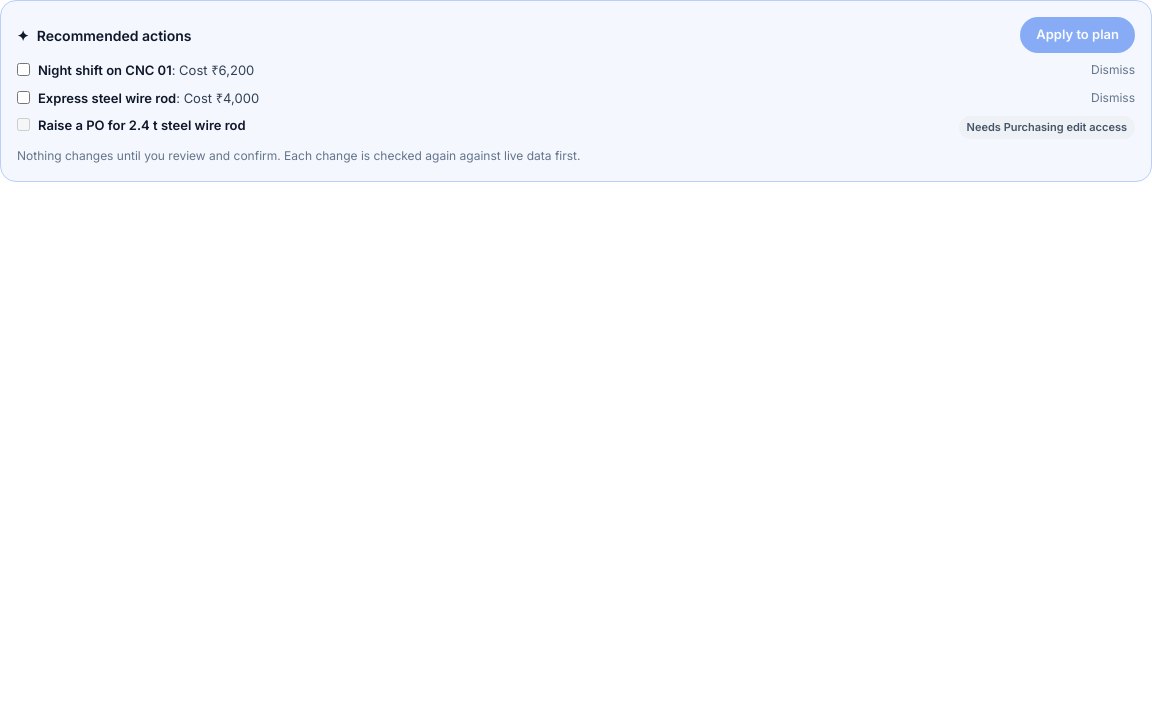
tick, review (re-checked live: now vs after), confirm: applied with a link; nothing without approval
Check: the button "Apply to plan" is disabled, box [1020,17,1135,53]
Check: the text "Needs Purchasing edit access" is shown, box [959,116,1135,138]
Click the checkbox labelled "Night shift on CNC 01: Cost ₹6,200".
click(24, 70)  # box [17,63,30,76]
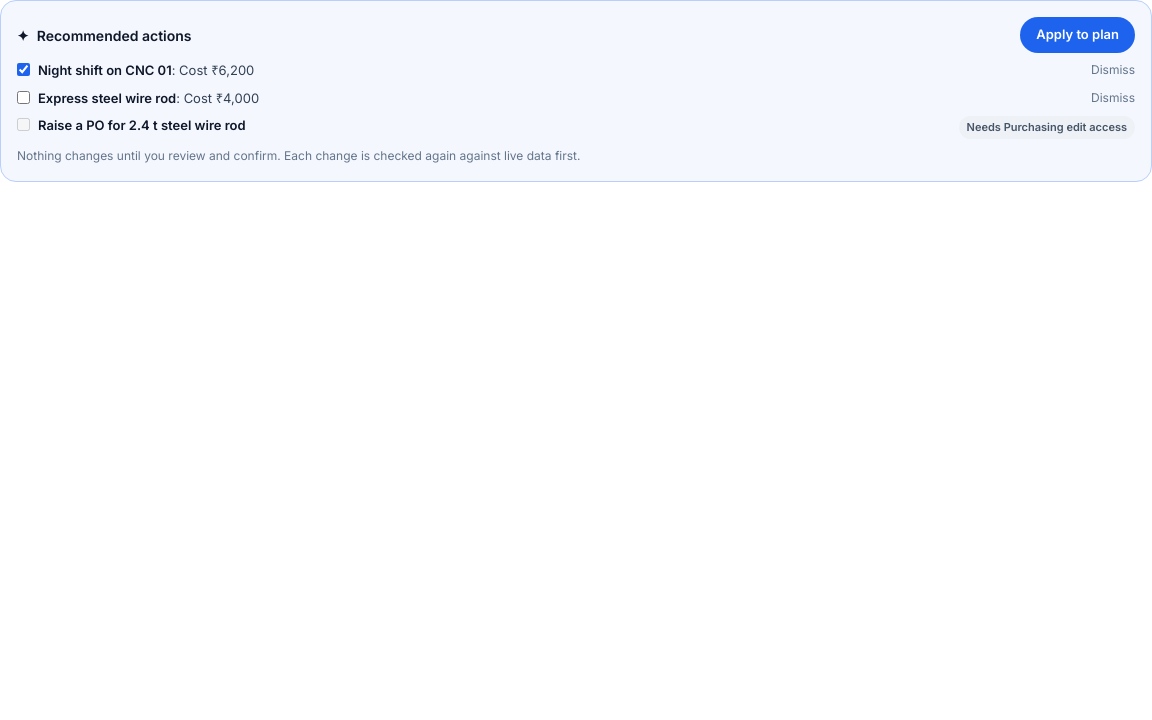
Click the button "Apply to plan".
click(1078, 35)  # box [1020,17,1135,53]
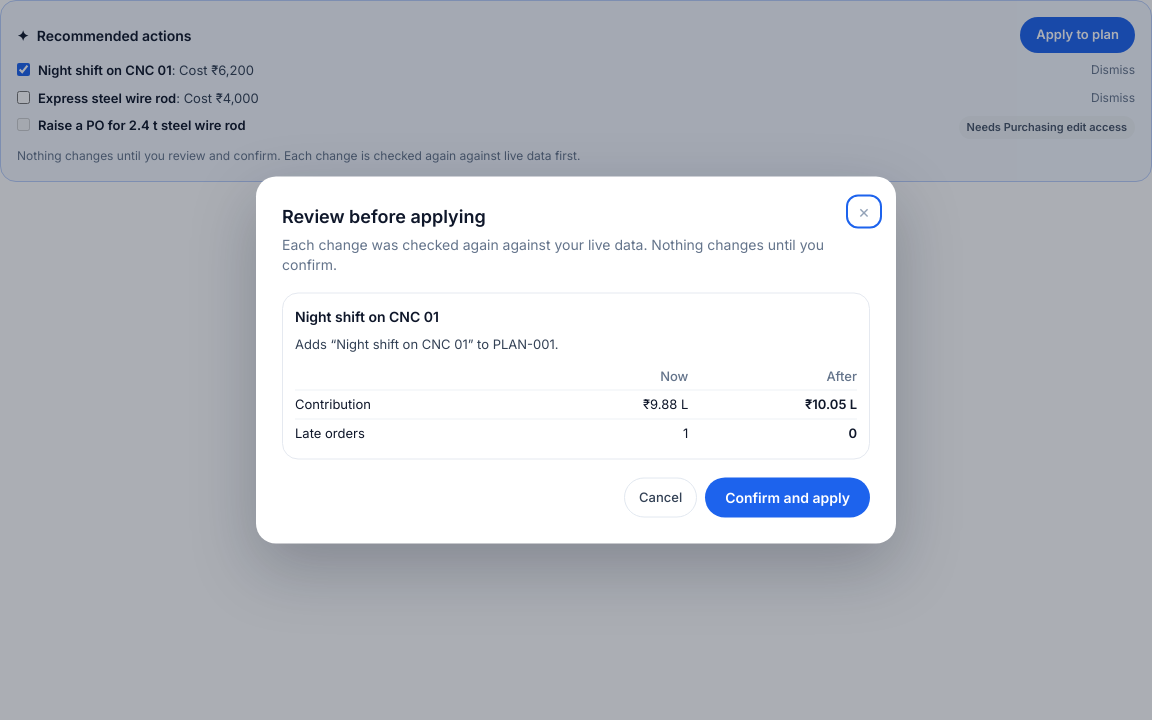
Check: the text "₹10.05 L" is shown, box [688,390,857,418]
Click the button "Confirm and apply".
click(788, 498)  # box [705,478,870,518]
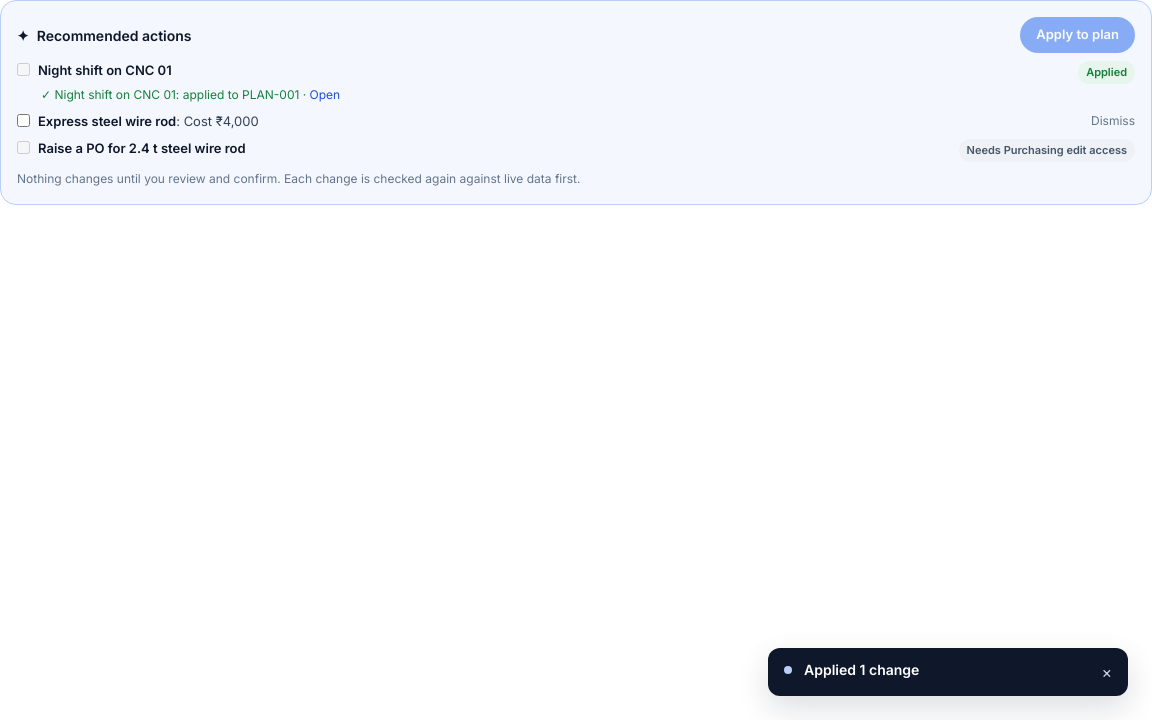
Check: the text "Applied" is shown, box [1078,61,1135,84]
Click the button "Dismiss".
click(1113, 120)  # box [1091,112,1135,130]
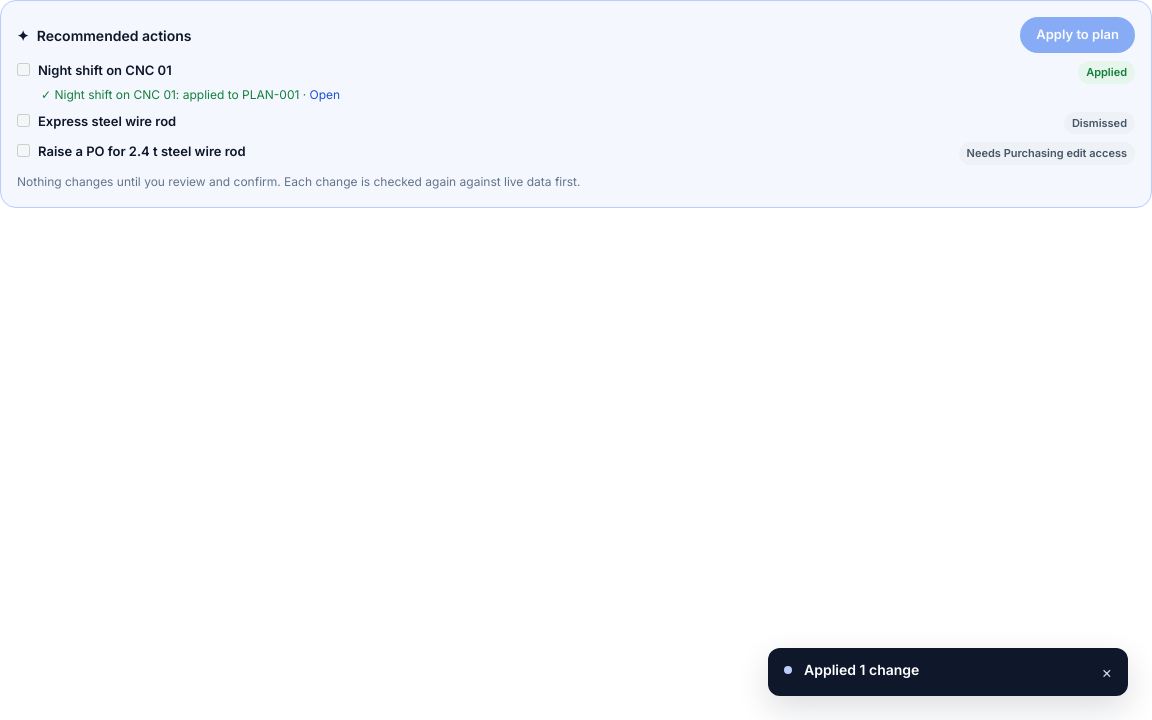
Check: the text "Dismissed" is shown, box [1064,112,1135,134]
